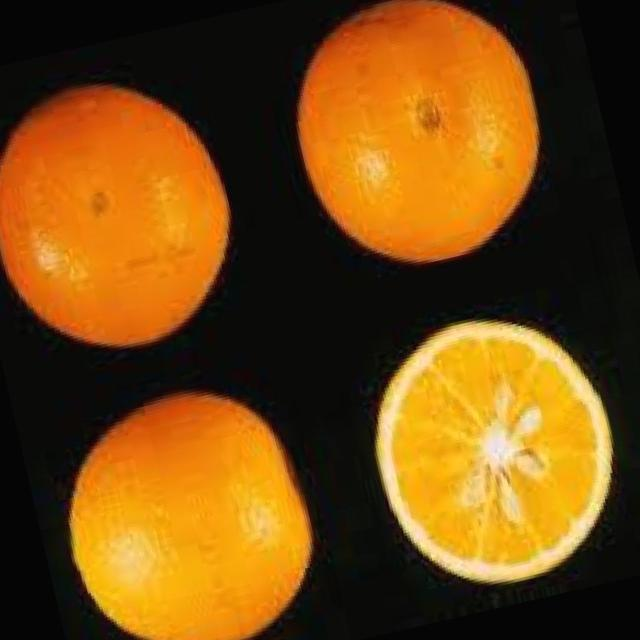Orange: (346, 293, 639, 607), (269, 0, 564, 284), (0, 55, 255, 372), (39, 366, 333, 640)
